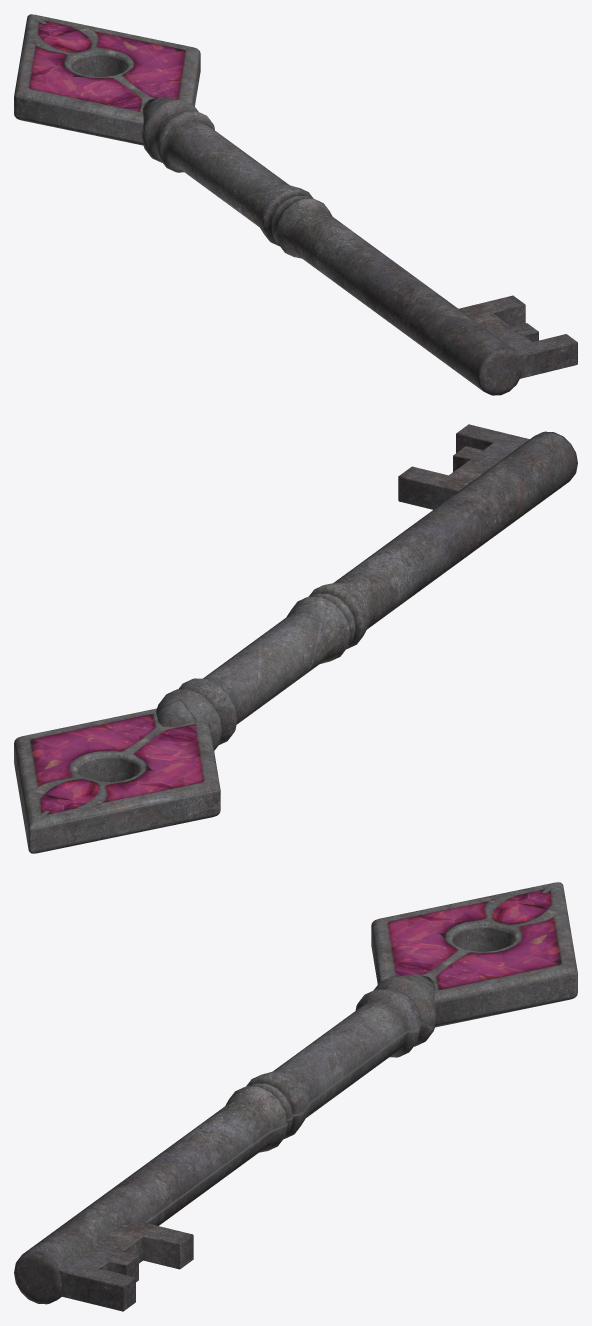
The model's file is sm73_140_diakey01a.fbx.
3 renders of one model, top to bottom at view 1: azimuth 30°, elevation 25°; view 2: azimuth 150°, elevation 25°; view 3: azimuth 330°, elevation 25°, orthographic. The views are drawn at different scales.
Parts seen in each view (by area): view 1: LOD_1_Group_1_Sub_1__sm73_140_DiaKey01A_A_Mat, LOD_1_Group_0_Sub_1__sm73_140_DiaKey01A_A_Mat, LOD_1_Group_2_Sub_1__sm73_140_DiaKey01A_A_Mat; view 2: LOD_1_Group_1_Sub_1__sm73_140_DiaKey01A_A_Mat, LOD_1_Group_0_Sub_1__sm73_140_DiaKey01A_A_Mat, LOD_1_Group_2_Sub_1__sm73_140_DiaKey01A_A_Mat; view 3: LOD_1_Group_1_Sub_1__sm73_140_DiaKey01A_A_Mat, LOD_1_Group_0_Sub_1__sm73_140_DiaKey01A_A_Mat, LOD_1_Group_2_Sub_1__sm73_140_DiaKey01A_A_Mat.
Part boxes in pixels (x1,y1,x2,y2): LOD_1_Group_1_Sub_1__sm73_140_DiaKey01A_A_Mat: (142,97,522,395); LOD_1_Group_0_Sub_1__sm73_140_DiaKey01A_A_Mat: (14,14,200,145); LOD_1_Group_2_Sub_1__sm73_140_DiaKey01A_A_Mat: (458,295,577,378); LOD_1_Group_1_Sub_1__sm73_140_DiaKey01A_A_Mat: (156,431,577,750); LOD_1_Group_0_Sub_1__sm73_140_DiaKey01A_A_Mat: (14,708,220,853); LOD_1_Group_2_Sub_1__sm73_140_DiaKey01A_A_Mat: (398,424,529,509); LOD_1_Group_1_Sub_1__sm73_140_DiaKey01A_A_Mat: (14,974,436,1304); LOD_1_Group_0_Sub_1__sm73_140_DiaKey01A_A_Mat: (371,882,577,1027); LOD_1_Group_2_Sub_1__sm73_140_DiaKey01A_A_Mat: (59,1219,193,1311).
Bounding box in the file's own units: 0.0274 × 0.00867 × 0.1216.
